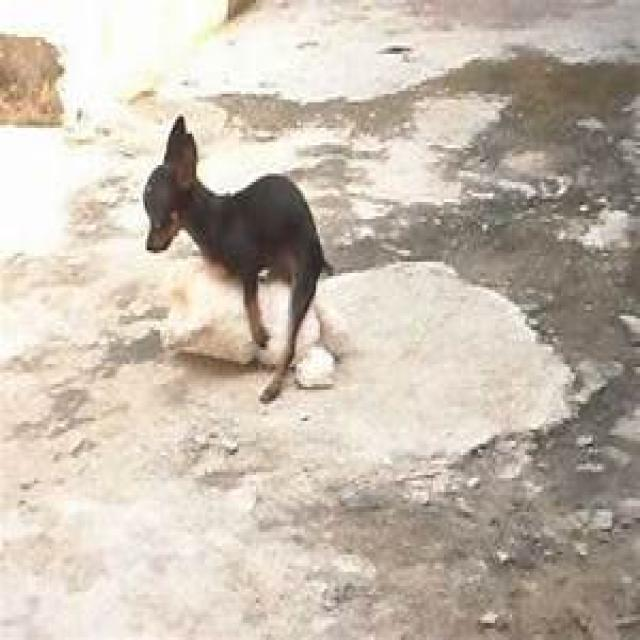dog: (144, 117, 332, 402)
